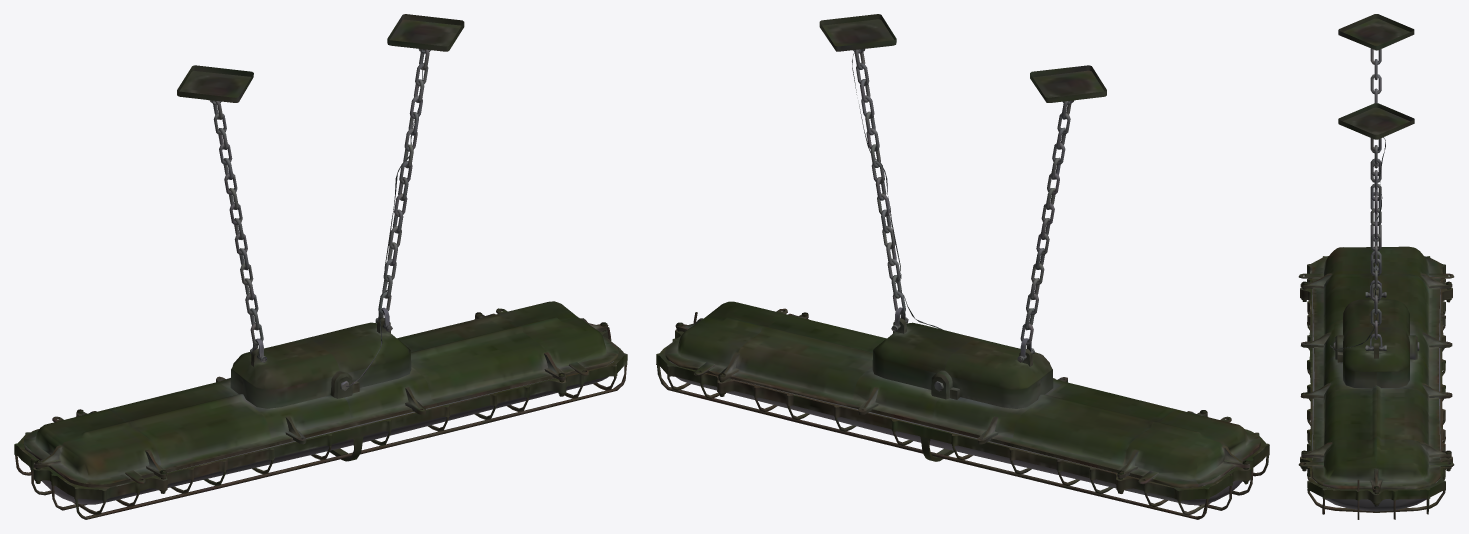
File: caged_hanging_light_lod1.glb
3 views of the same model, side by side, from view 1: azimuth 30°, elevation 25°; view 2: azimuth 150°, elevation 25°; view 3: azimuth 270°, elevation 25° (orthographic). The views are drawn at different scales.
Parts seen in each view (by area): view 1: caged_hanging_light; view 2: caged_hanging_light; view 3: caged_hanging_light.
Boxes of the visible parts, left/top/right/bottom form: caged_hanging_light: left=14, top=14, right=627, bottom=519; caged_hanging_light: left=656, top=14, right=1269, bottom=519; caged_hanging_light: left=1298, top=14, right=1454, bottom=519.
Size of the model in its own units: 1.16 by 0.7501 by 0.3149.
Materials: 1 (1 with a texture image).
